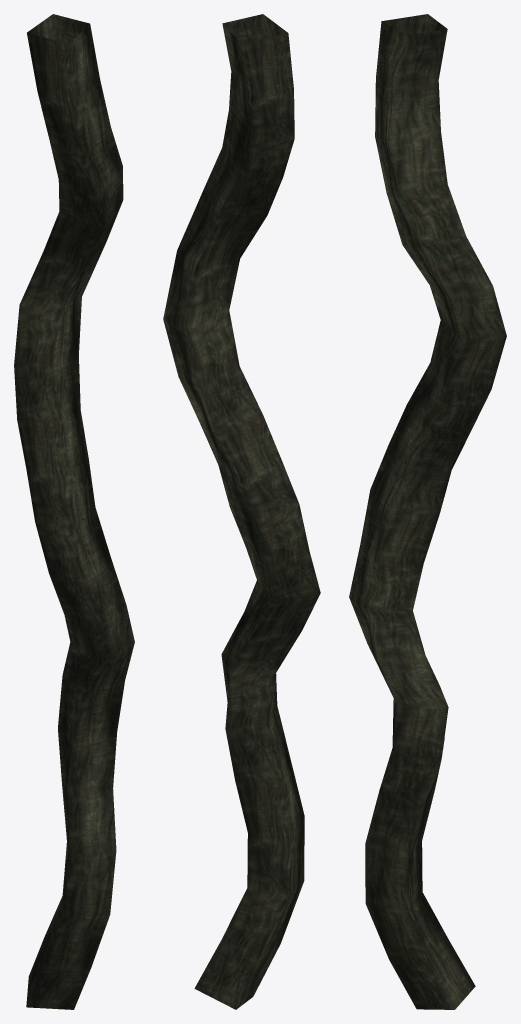
Rendered from Root_large1_LOD1.fbx.
3 views of the same model, side by side, from view 1: azimuth 90°, elevation 25°; view 2: azimuth 150°, elevation 25°; view 3: azimuth 330°, elevation 25° (orthographic).
Visible parts, largest first — view 1: polySurface81; view 2: polySurface81; view 3: polySurface81.
Boxes of the visible parts, x1,y1,x2,y2 form: polySurface81: (14,14,134,1009); polySurface81: (163,14,320,1009); polySurface81: (349,14,506,1009).
Size of the model in its own units: 4.42 by 33.05 by 3.67.
